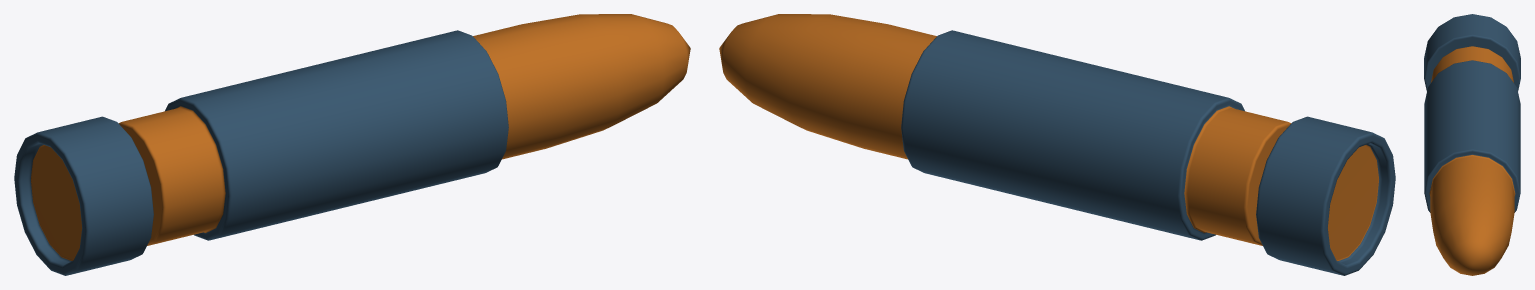
File: Dart.fbx
3 views of the same model, side by side, from view 1: azimuth 30°, elevation 25°; view 2: azimuth 150°, elevation 25°; view 3: azimuth 270°, elevation 25° (orthographic). The views are drawn at different scales.
Parts seen in each view (by area): view 1: Dart; view 2: Dart; view 3: Dart.
Boxes of the visible parts, left/top/right/bottom form: Dart: left=14, top=14, right=690, bottom=275; Dart: left=719, top=14, right=1395, bottom=275; Dart: left=1424, top=14, right=1520, bottom=275.
Bounding box in the file's own units: 24.58 × 4.88 × 4.88.
